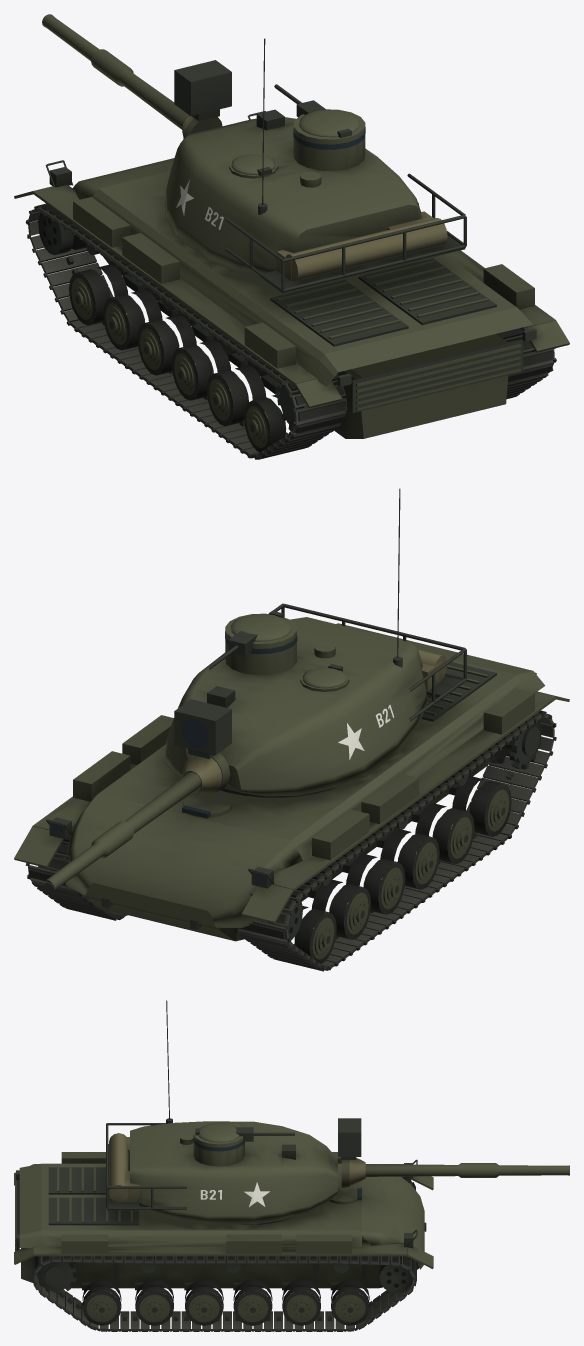
The picture shows the model from 3 angles, top to bottom: view 1: azimuth 30°, elevation 25°; view 2: azimuth 150°, elevation 25°; view 3: azimuth 270°, elevation 25°; orthographic projection. The views are drawn at different scales.
Parts seen in each view (by area): view 1: Hull_M60_Paint, TurretYaw_M60_Paint, LeftTrack_Motion_M60_Rubber, Hull_M60_DarkSteel, LeftTrack_Motion_M60_TrackSteel, TurretYaw_M60_DarkSteel, TurretYaw_M60_Canvas, LeftTrack_Motion_M60_Paint, LeftTrack_Motion_M60_DarkSteel, BarrelRecoil_M60_Paint, GunPitch_M60_DarkSteel, RightTrack_Motion_M60_Rubber (+1 smaller); view 2: Hull_M60_Paint, TurretYaw_M60_Paint, LeftTrack_Motion_M60_Rubber, LeftTrack_Motion_M60_TrackSteel, LeftTrack_Motion_M60_Paint, LeftTrack_Motion_M60_DarkSteel, TurretYaw_M60_DarkSteel, BarrelRecoil_M60_Paint, Hull_M60_DarkSteel, GunPitch_M60_DarkSteel, RightTrack_Motion_M60_Rubber, GunPitch_M60_Canvas (+2 smaller); view 3: Hull_M60_Paint, TurretYaw_M60_Paint, RightTrack_Motion_M60_Rubber, RightTrack_Motion_M60_TrackSteel, Hull_M60_DarkSteel, RightTrack_Motion_M60_Paint, RightTrack_Motion_M60_DarkSteel, BarrelRecoil_M60_Paint, TurretYaw_M60_DarkSteel, TurretYaw_M60_Canvas, GunPitch_M60_DarkSteel, RightTrack_M60_DarkSteel.
Boxes of the visible parts, <box> form: Hull_M60_Paint: <box>14,158,569,438</box>; TurretYaw_M60_Paint: <box>164,109,421,275</box>; LeftTrack_Motion_M60_Rubber: <box>34,203,345,459</box>; Hull_M60_DarkSteel: <box>45,111,536,413</box>; LeftTrack_Motion_M60_TrackSteel: <box>28,207,346,457</box>; TurretYaw_M60_DarkSteel: <box>225,38,466,293</box>; TurretYaw_M60_Canvas: <box>277,211,447,281</box>; LeftTrack_Motion_M60_Paint: <box>71,278,267,448</box>; LeftTrack_Motion_M60_DarkSteel: <box>25,208,307,458</box>; BarrelRecoil_M60_Paint: <box>42,14,190,129</box>; GunPitch_M60_DarkSteel: <box>174,60,231,121</box>; RightTrack_Motion_M60_Rubber: <box>496,328,553,398</box>; Hull_M60_Paint: <box>14,623,569,941</box>; TurretYaw_M60_Paint: <box>164,613,427,796</box>; LeftTrack_Motion_M60_Rubber: <box>238,710,552,971</box>; LeftTrack_Motion_M60_TrackSteel: <box>238,713,554,969</box>; LeftTrack_Motion_M60_Paint: <box>312,789,509,959</box>; LeftTrack_Motion_M60_DarkSteel: <box>257,714,556,970</box>; TurretYaw_M60_DarkSteel: <box>207,488,466,721</box>; BarrelRecoil_M60_Paint: <box>46,772,201,890</box>; Hull_M60_DarkSteel: <box>46,662,536,929</box>; GunPitch_M60_DarkSteel: <box>174,699,231,759</box>; RightTrack_Motion_M60_Rubber: <box>29,831,127,920</box>; GunPitch_M60_Canvas: <box>182,755,222,793</box>; Hull_M60_Paint: <box>14,1152,433,1288</box>; TurretYaw_M60_Paint: <box>130,1121,337,1224</box>; RightTrack_Motion_M60_Rubber: <box>32,1256,416,1331</box>; RightTrack_Motion_M60_TrackSteel: <box>34,1256,415,1330</box>; Hull_M60_DarkSteel: <box>16,1159,426,1250</box>; RightTrack_Motion_M60_Paint: <box>86,1294,365,1322</box>; RightTrack_Motion_M60_DarkSteel: <box>34,1256,415,1331</box>; BarrelRecoil_M60_Paint: <box>365,1163,569,1177</box>; TurretYaw_M60_DarkSteel: <box>106,1000,295,1210</box>; TurretYaw_M60_Canvas: <box>109,1133,139,1202</box>; GunPitch_M60_DarkSteel: <box>338,1118,361,1159</box>; RightTrack_M60_DarkSteel: <box>82,1256,367,1290</box>.
Bounding box in the file's own units: 3.69 × 5 × 9.53.
Materials: 8 (1 with a texture image).
